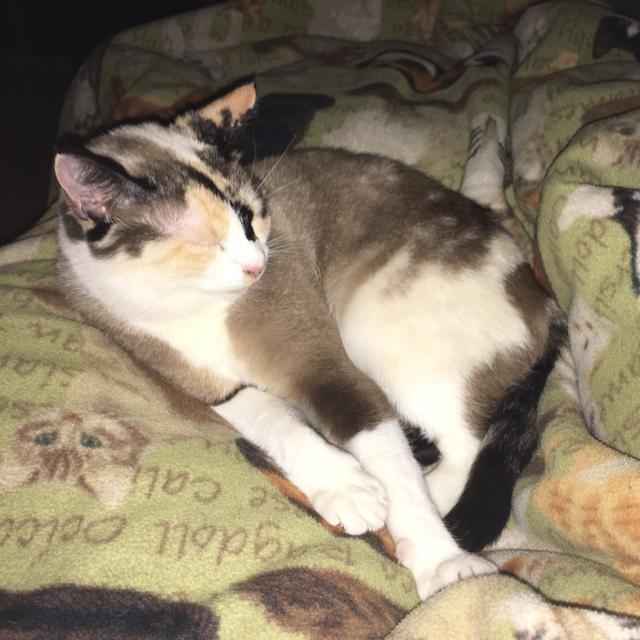Cat: (52, 81, 565, 600)
